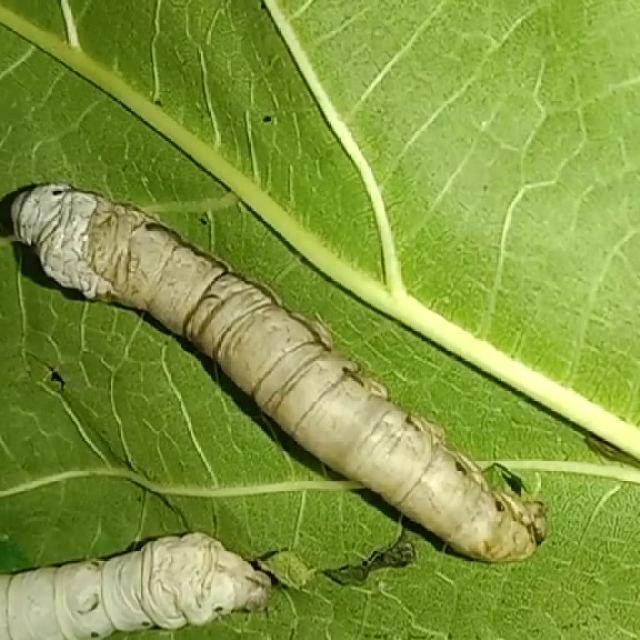Grasserie: (0, 152, 568, 574)
